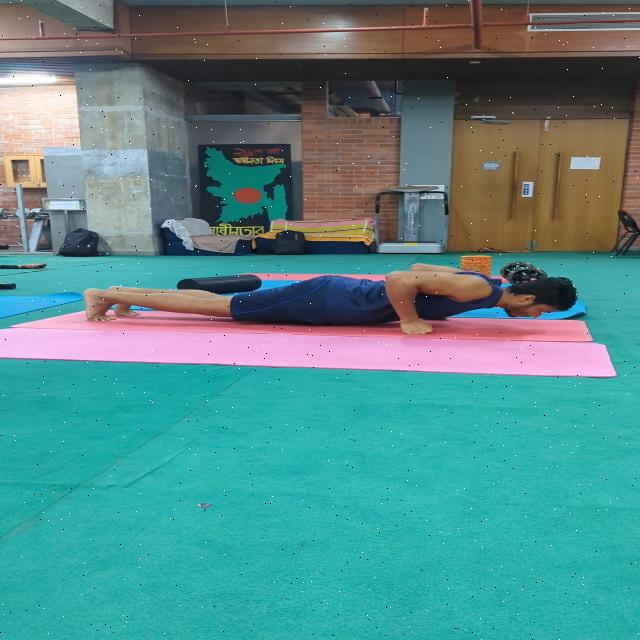Normal_PushUps: (77, 260, 604, 338)
